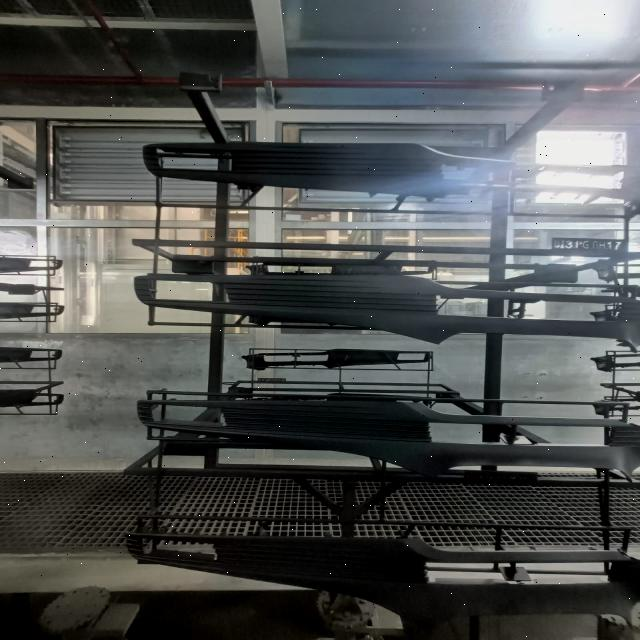Primered: (131, 528, 640, 624), (134, 396, 640, 488), (129, 267, 640, 351), (136, 136, 640, 219)
